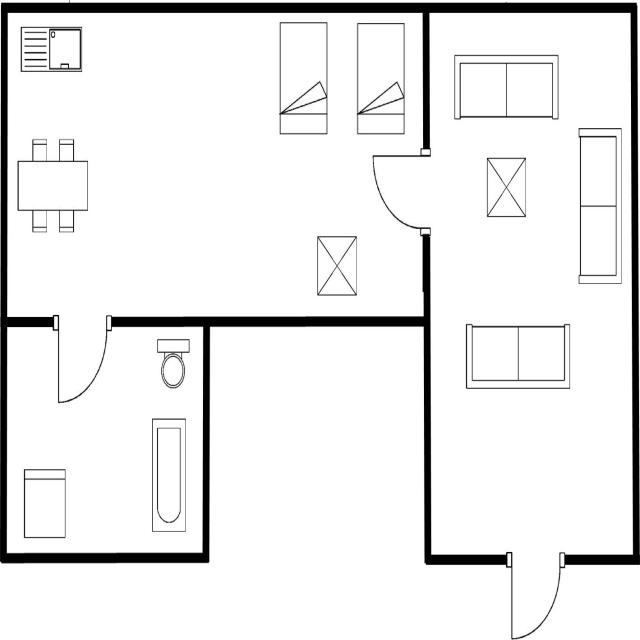bed: (276, 18, 329, 140), (354, 18, 406, 139)
coffee_table: (315, 233, 359, 299), (484, 154, 528, 219)
dining_table: (15, 134, 90, 234)
large_sink: (154, 334, 192, 390)
large_sofa: (452, 50, 560, 123), (464, 320, 572, 390), (576, 124, 622, 287)
sink: (18, 22, 85, 76)
small_sofa: (20, 464, 68, 540)
tub: (148, 414, 188, 534)
